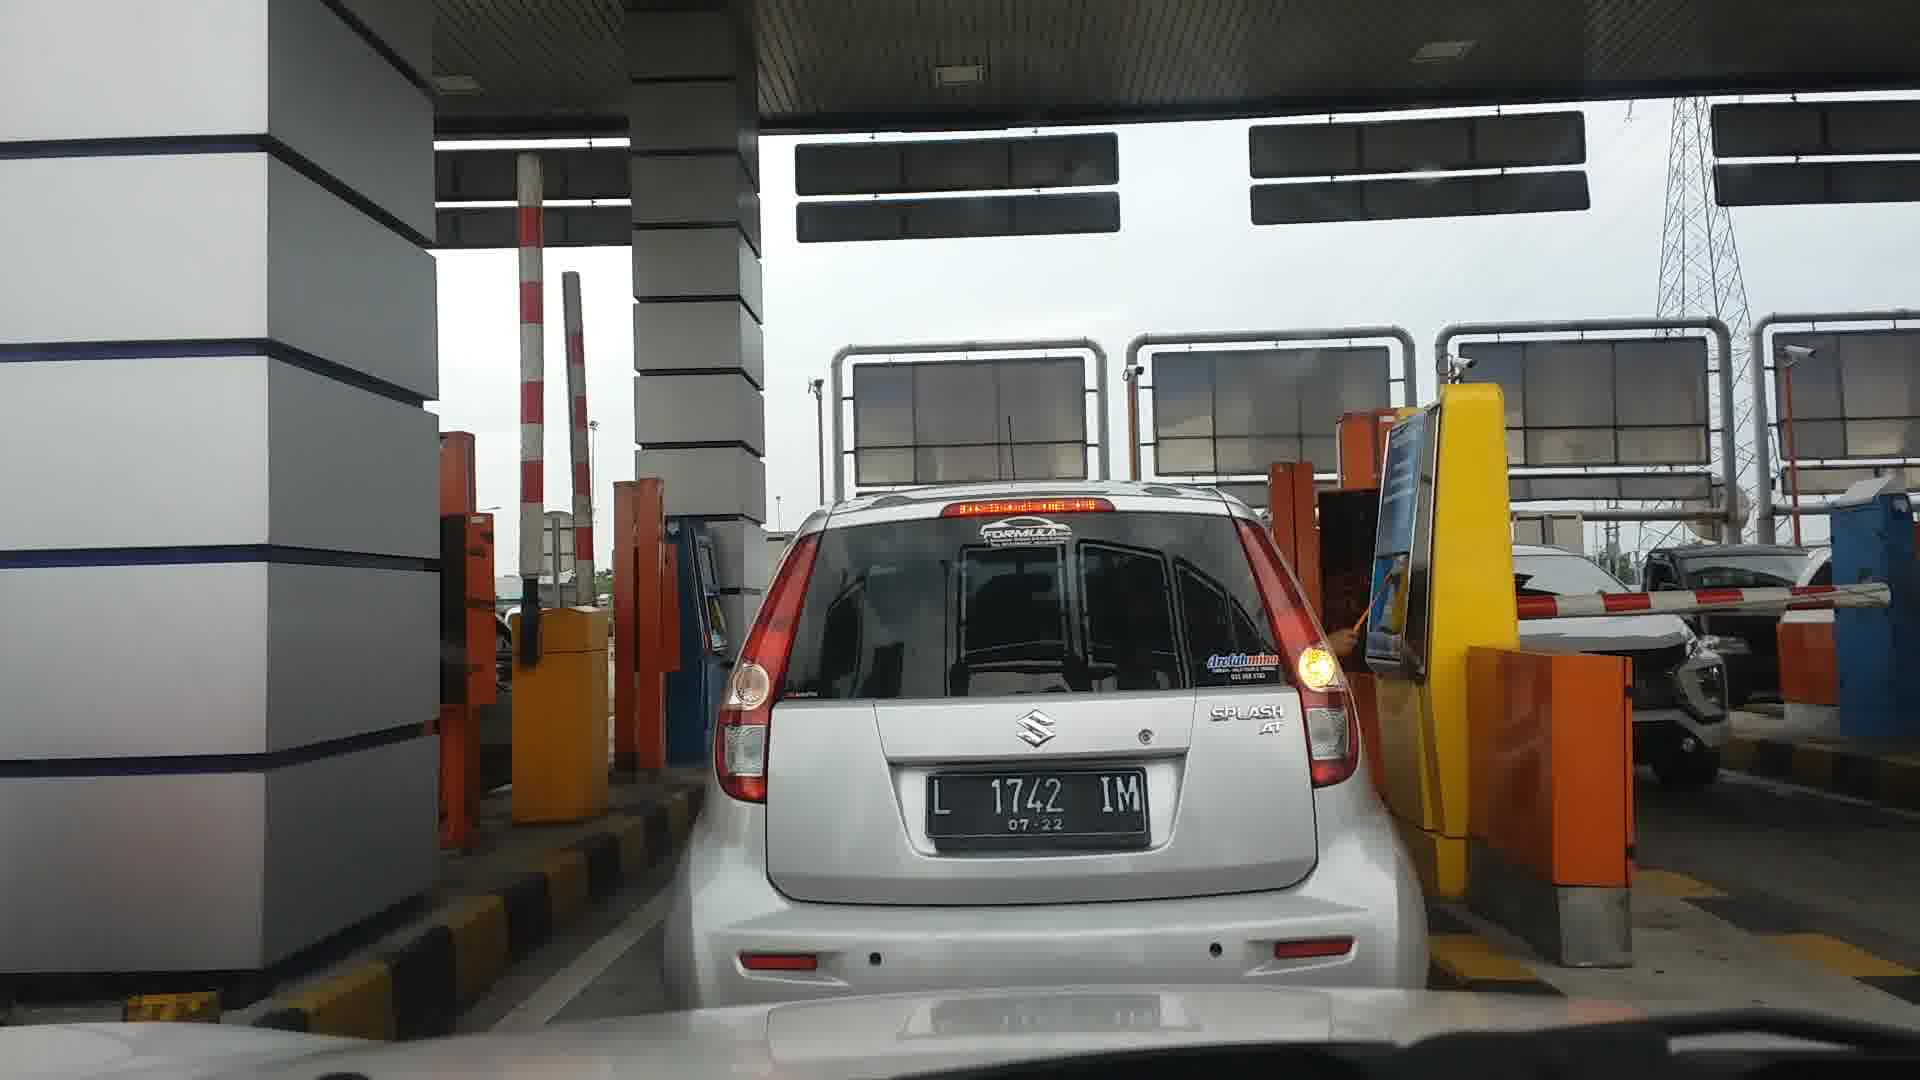plate_positive: (924, 769, 1153, 849)
